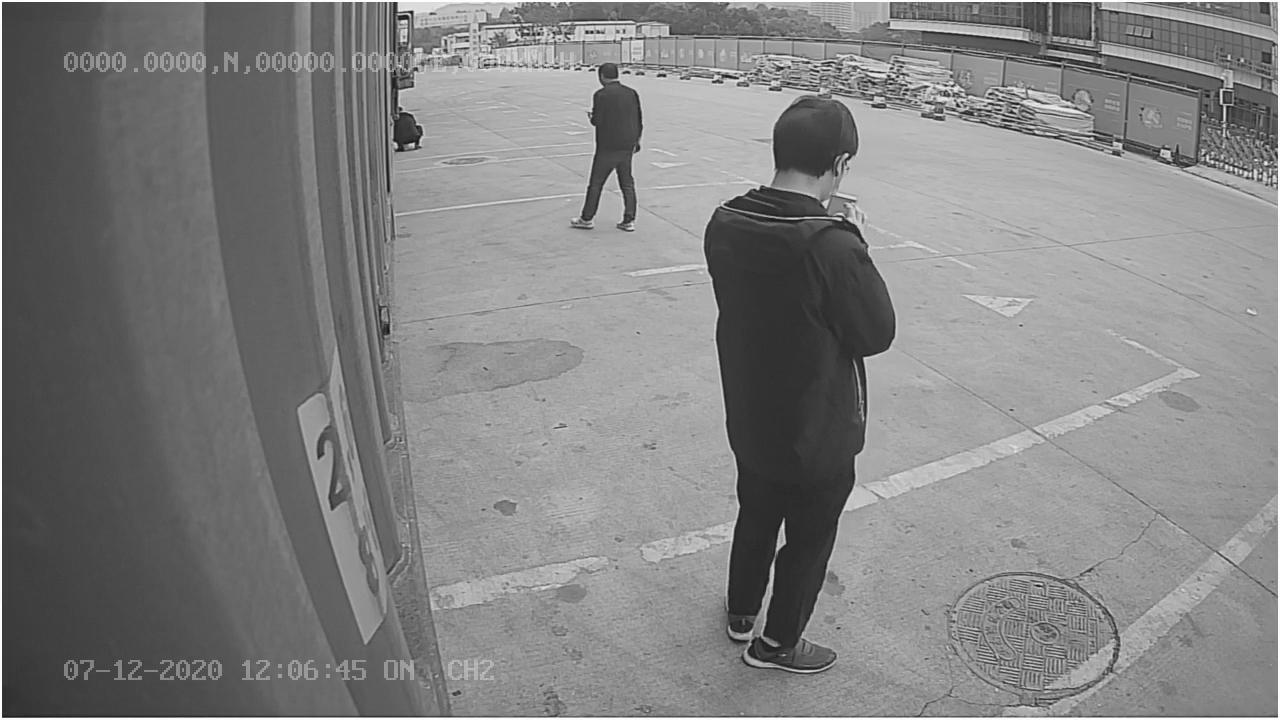person: (702, 88, 904, 670)
